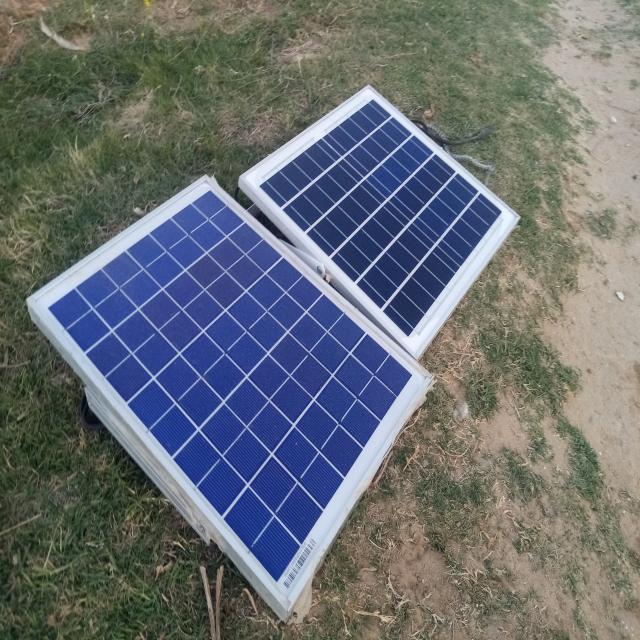no faulty: (26, 178, 431, 607), (246, 84, 518, 351)
